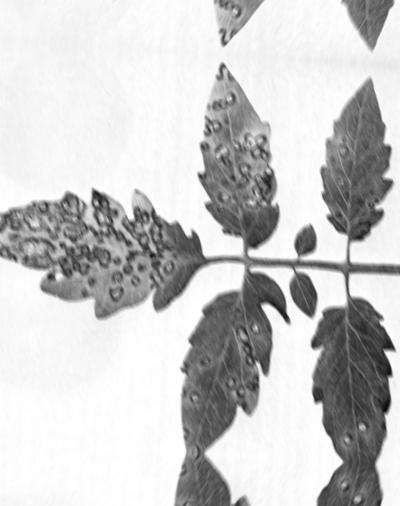Tomato Septoria leaf spot: (0, 175, 206, 324), (161, 266, 289, 453), (190, 61, 287, 255), (298, 290, 400, 462), (307, 66, 400, 242)
